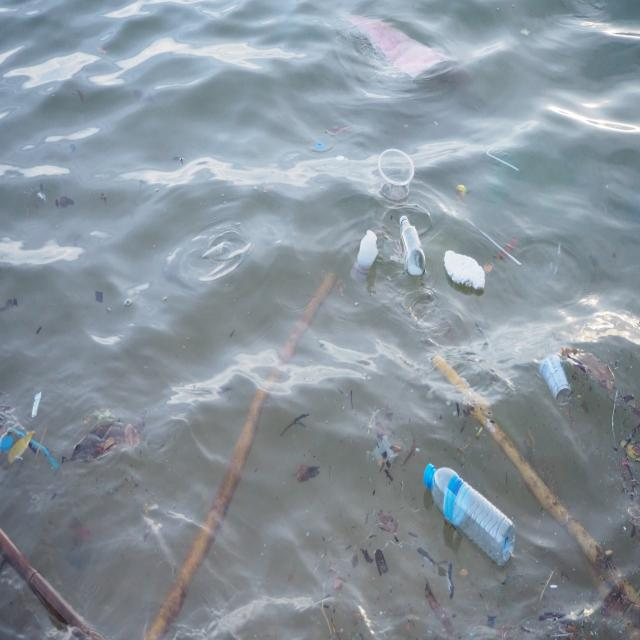foam: (437, 248, 490, 302)
plastic: (420, 461, 516, 568), (346, 226, 380, 284), (398, 209, 425, 280)
plastic bottle: (534, 348, 578, 406), (377, 143, 419, 200)
